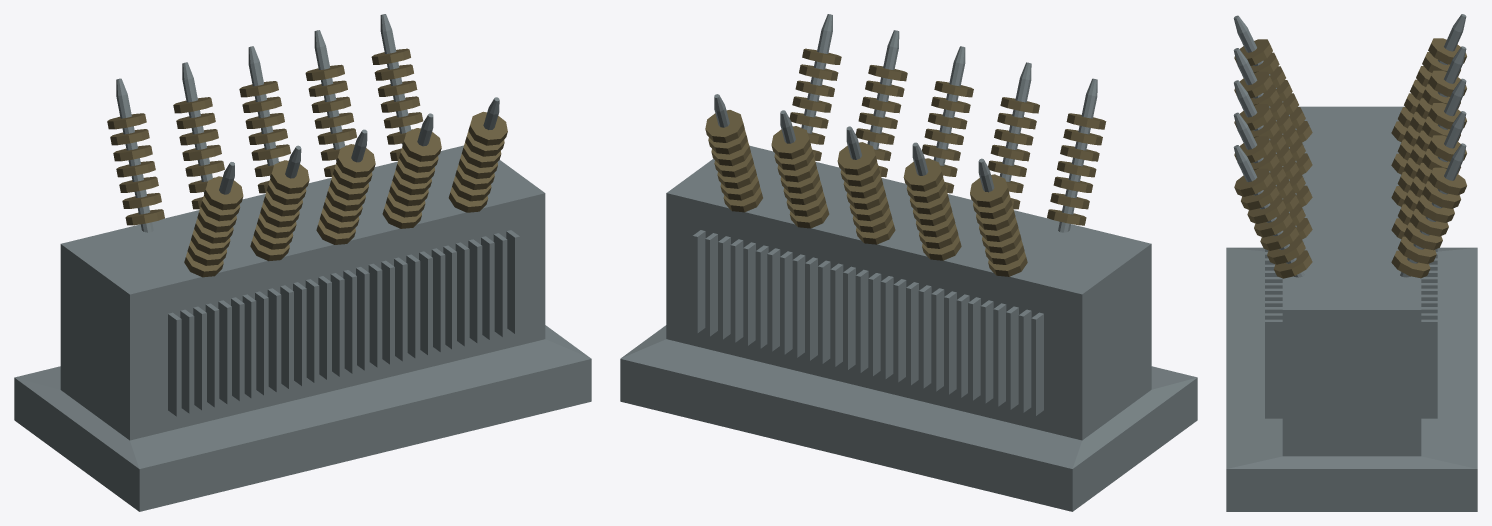
The model's file is site_regulator.fbx.
3 views of the same model, side by side, from view 1: azimuth 30°, elevation 25°; view 2: azimuth 150°, elevation 25°; view 3: azimuth 270°, elevation 25° (orthographic).
Parts seen in each view (by area): view 1: a1062/0/site_regulator; view 2: a1062/0/site_regulator; view 3: a1062/0/site_regulator.
Part boxes in pixels (x1,y1,x2,y2): a1062/0/site_regulator: (14,14,591,511); a1062/0/site_regulator: (620,14,1197,511); a1062/0/site_regulator: (1226,14,1477,511).
Size of the model in its own units: 7.54 by 5.15 by 3.61.
